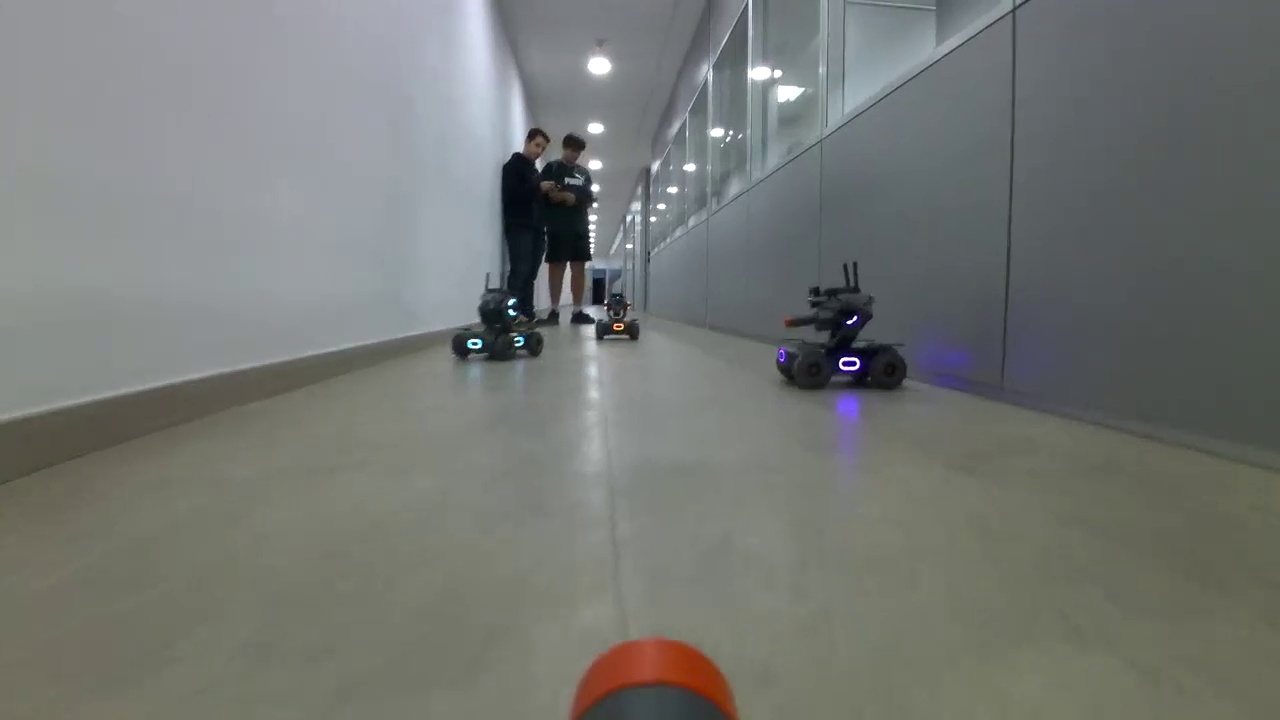robot: (776, 285, 910, 393), (450, 287, 545, 363), (596, 293, 639, 341)
